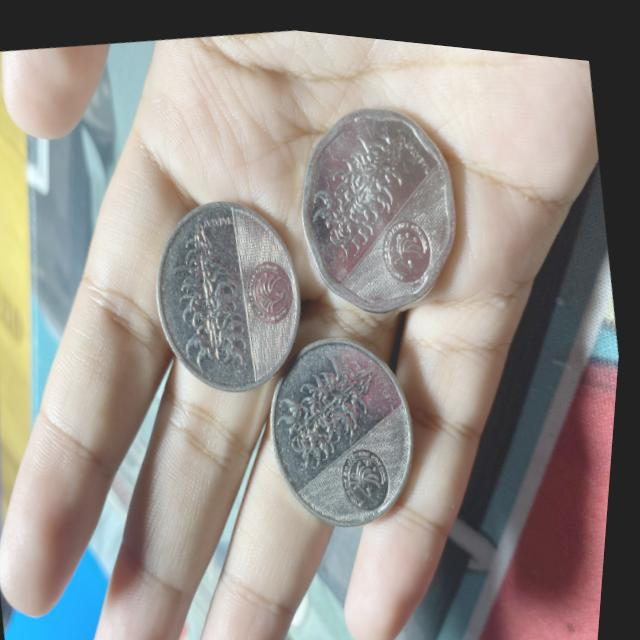5_New_Back: (299, 103, 434, 262), (270, 337, 392, 473), (164, 205, 257, 373)
